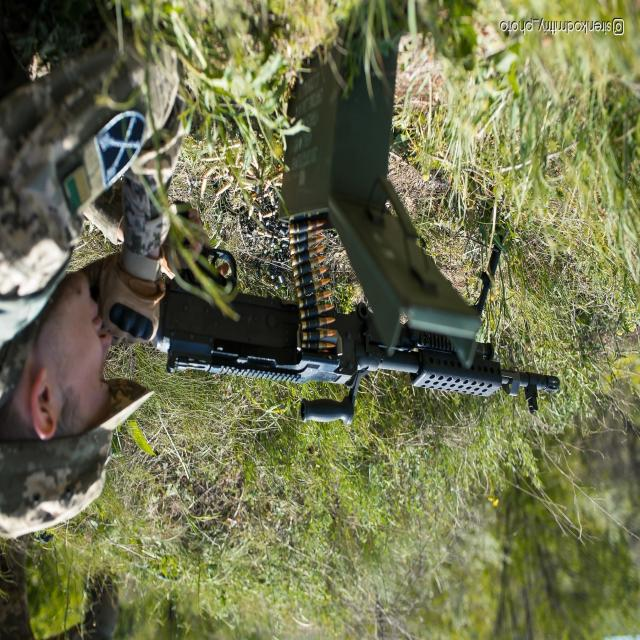Gun: (157, 145, 590, 431)
